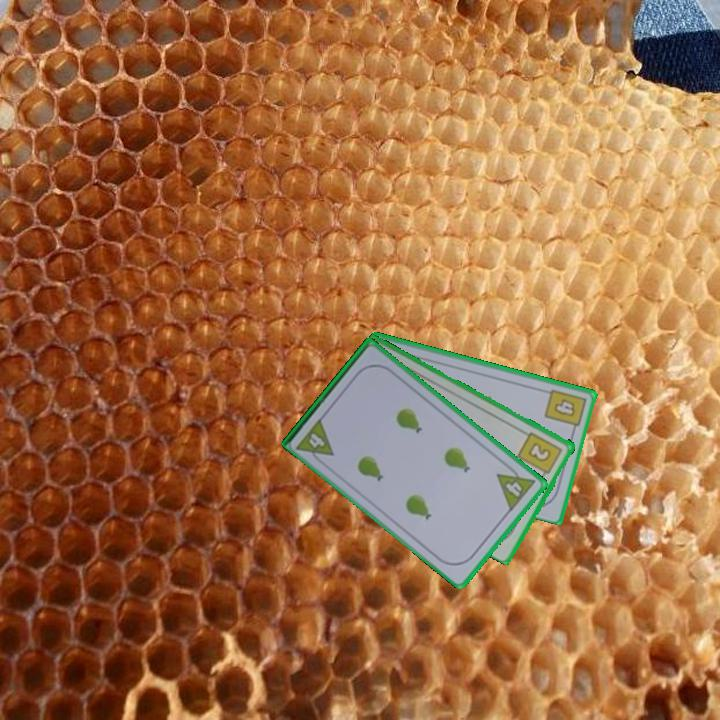2b: (514, 428, 565, 481)
4b: (541, 385, 589, 435)
4p: (493, 460, 538, 514), (293, 414, 337, 468)
